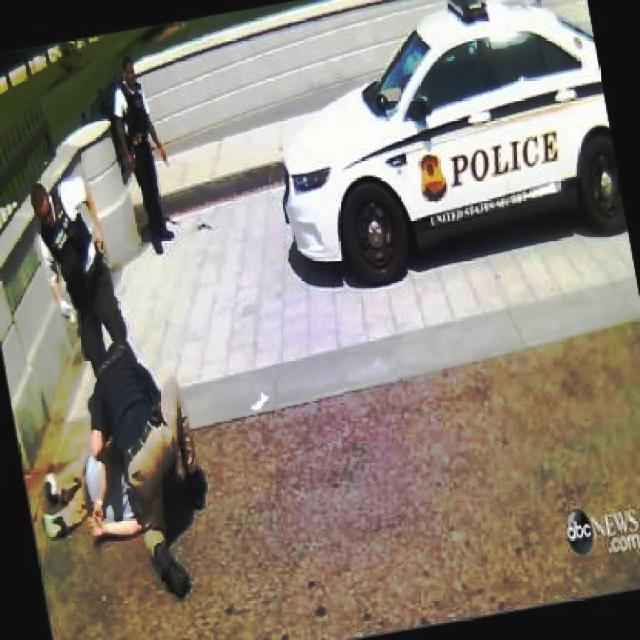Gun: (190, 204, 216, 238)
